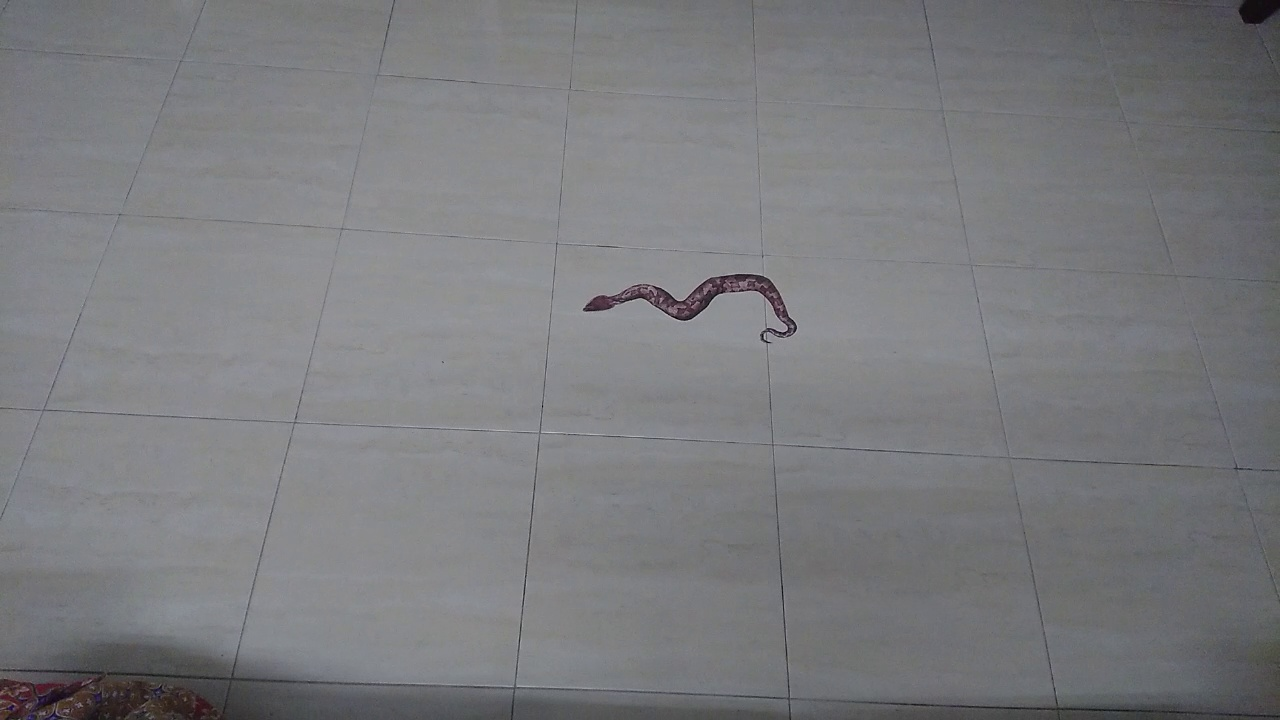snake: (566, 258, 811, 357)
